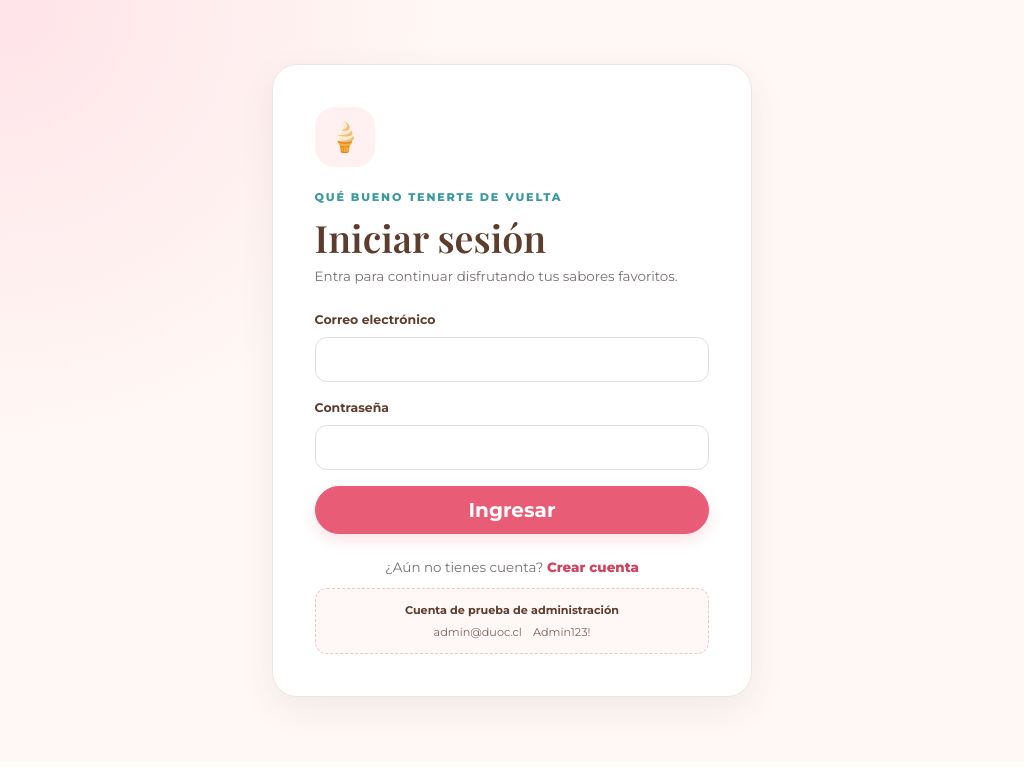
Página Login › muestra el mensaje del servicio cuando las credenciales son incorrectas
Type "alumno@example.com" into the field labelled "Correo electrónico" at (512, 359), box [315,337,709,382]
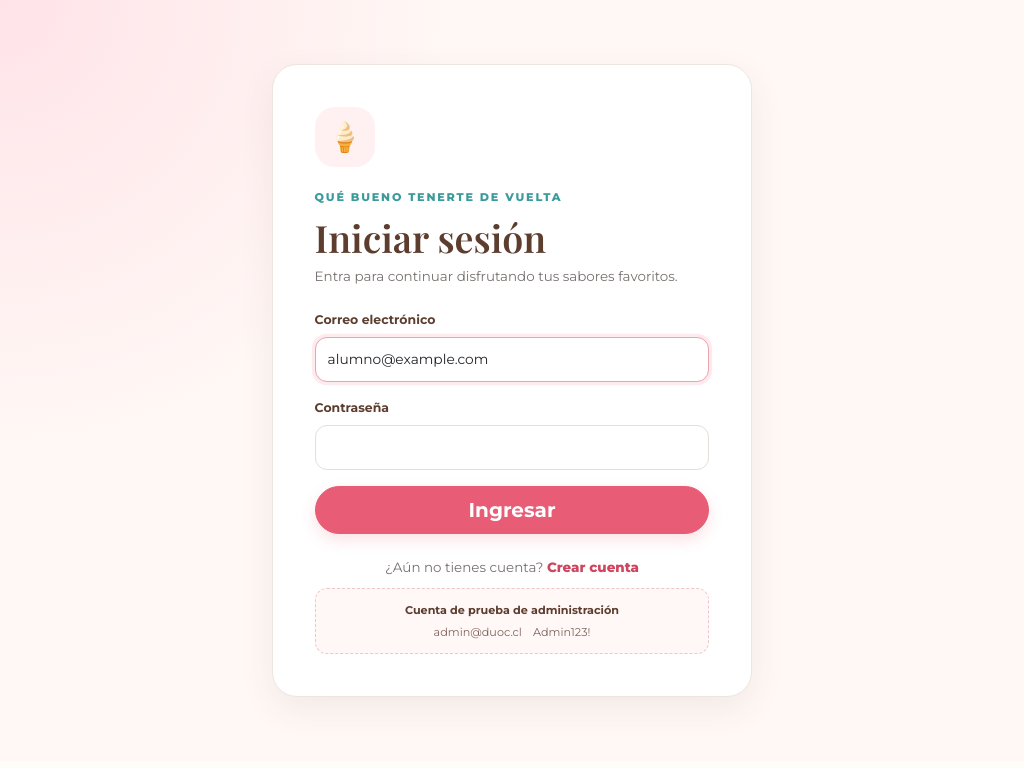
Type "clave123" into the password field labelled "Contraseña" at (512, 447), box [315,425,709,470]
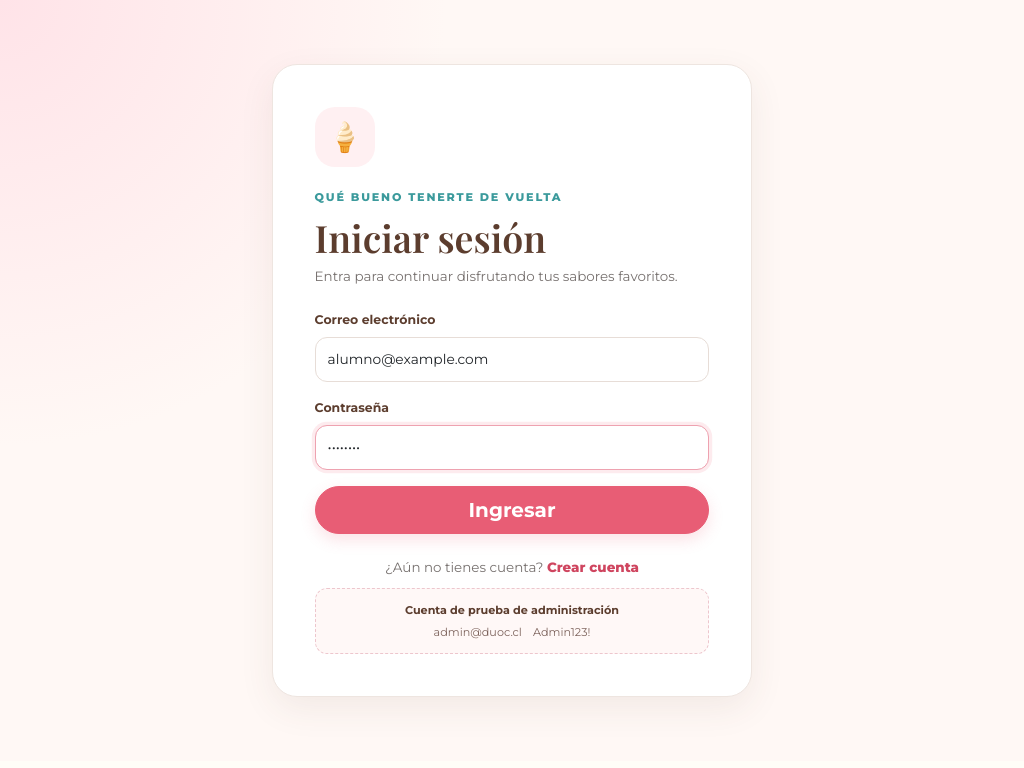
Click the button "Ingresar" at (512, 510), box [315,486,709,534]
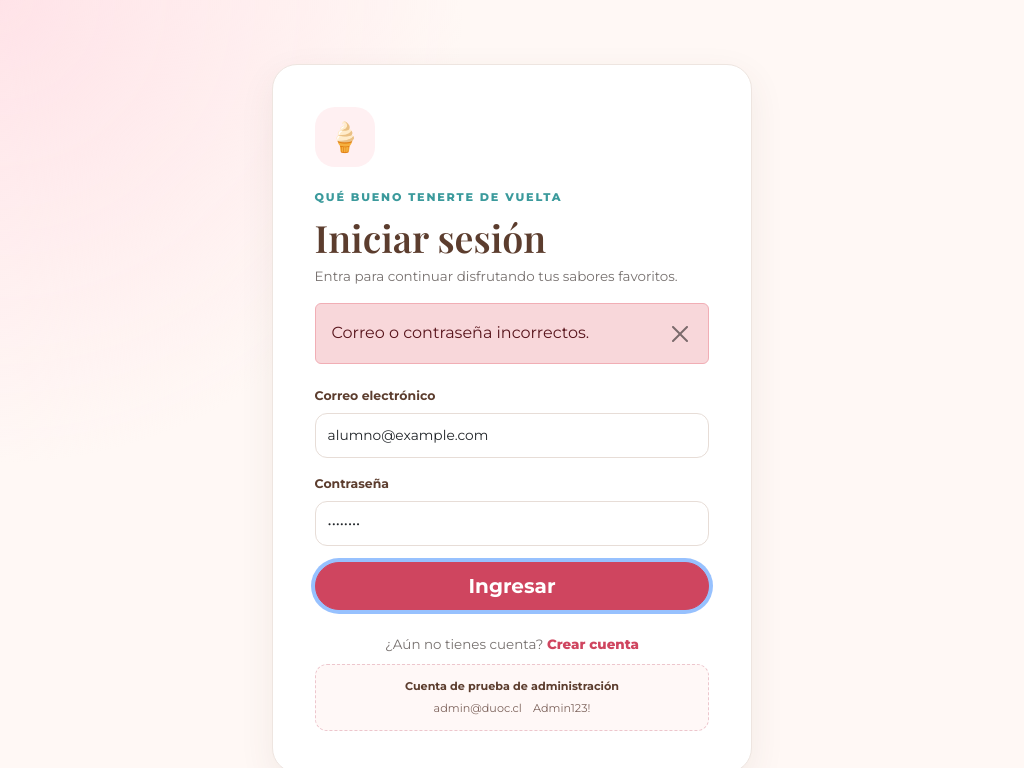
Expected: the message shows "Correo o contraseña incorrectos", [332,324,589,342]
